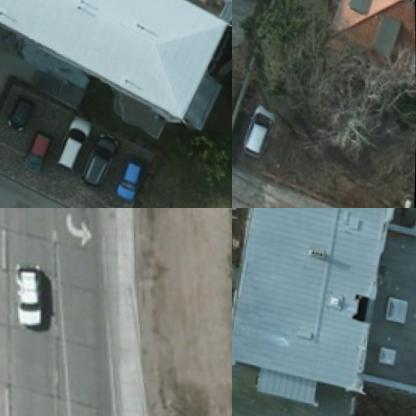car: (80, 122, 118, 186), (236, 98, 277, 152), (53, 110, 90, 168), (13, 257, 42, 326), (113, 150, 144, 194), (3, 90, 34, 134)
